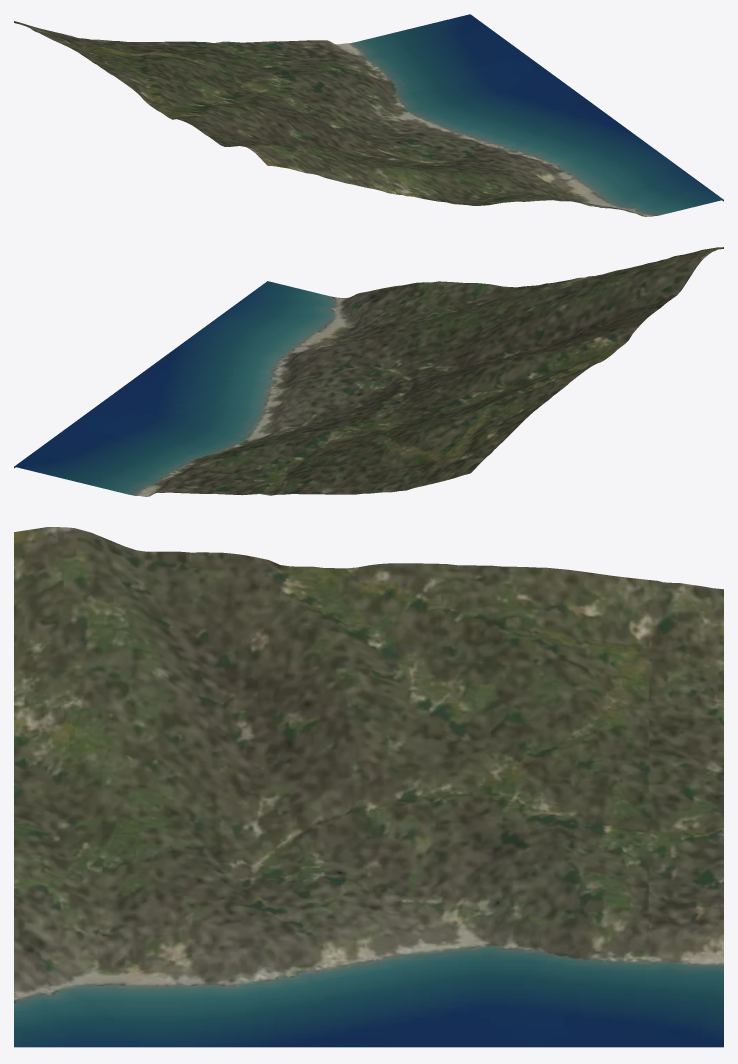
3 renders of one model, top to bottom at view 1: azimuth 30°, elevation 25°; view 2: azimuth 150°, elevation 25°; view 3: azimuth 270°, elevation 25°, orthographic. The views are drawn at different scales.
Bounding box in the file's own units: 250 × 78.98 × 241.
1 material, 1 textured.
